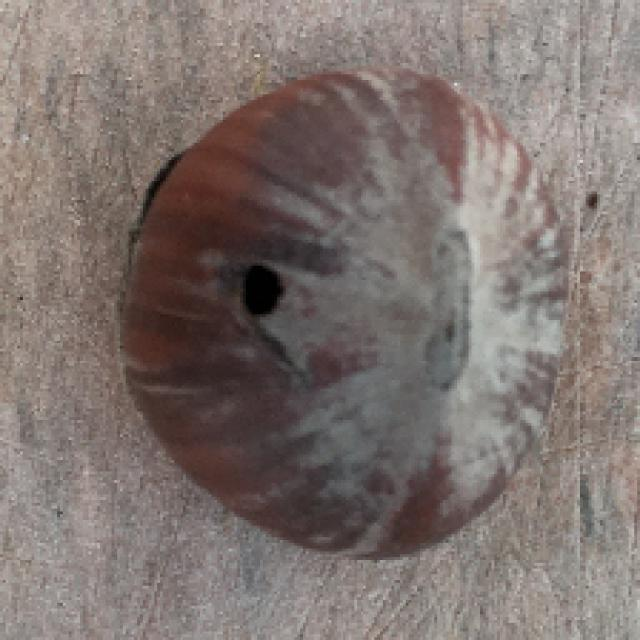damagedHazelnut: (107, 65, 564, 559)
